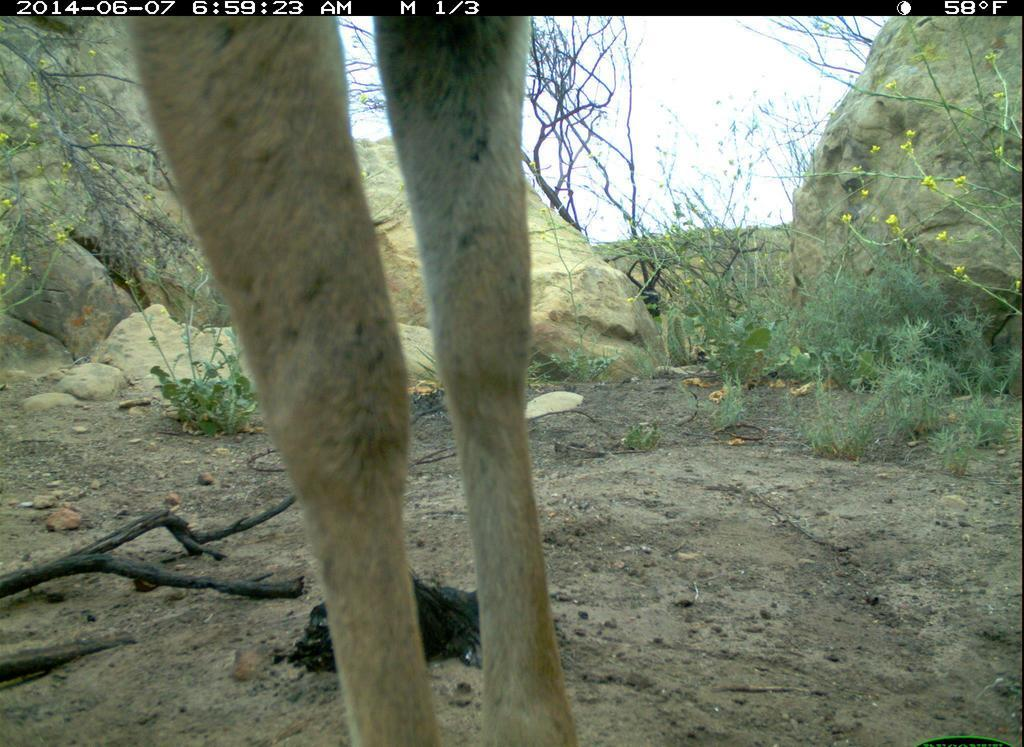deer: (123, 16, 587, 740)
